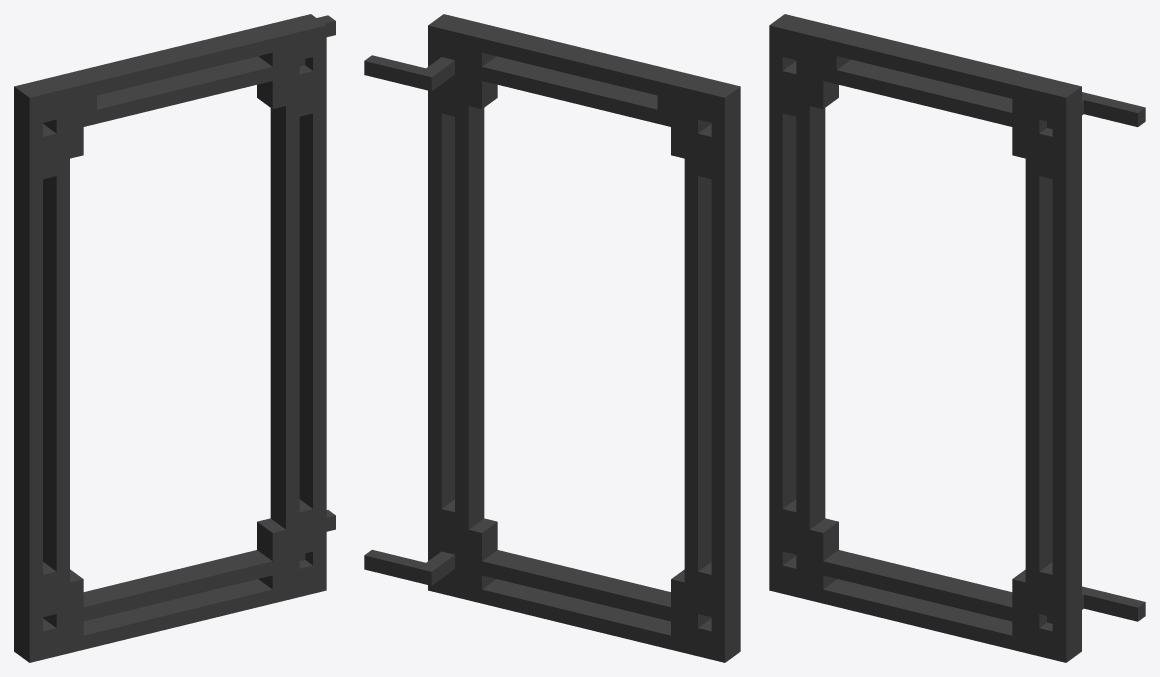
The model's file is Banner small 1.obj.
The picture shows the model from 3 angles, left to right: view 1: azimuth 30°, elevation 25°; view 2: azimuth 150°, elevation 25°; view 3: azimuth 330°, elevation 25°; orthographic projection.
Size of the model in its own units: 2.5 by 4 by 0.5.
Materials: 1 (1 with a texture image).
